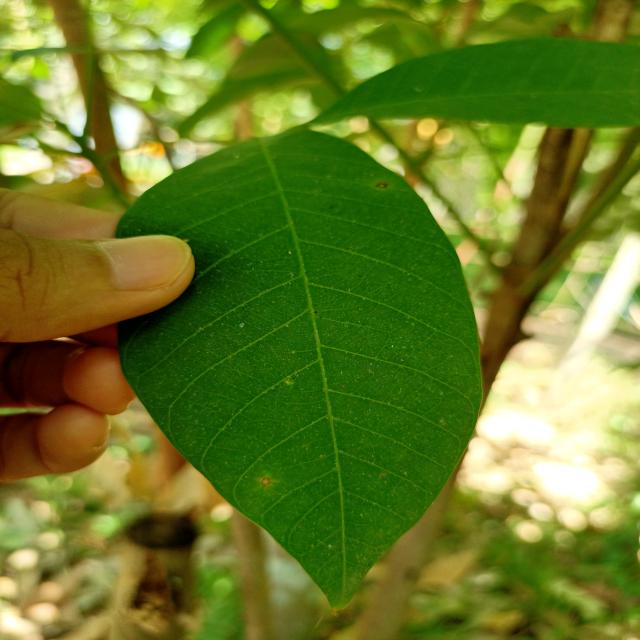Colletotrichum: (262, 478, 270, 485), (376, 183, 387, 188)
